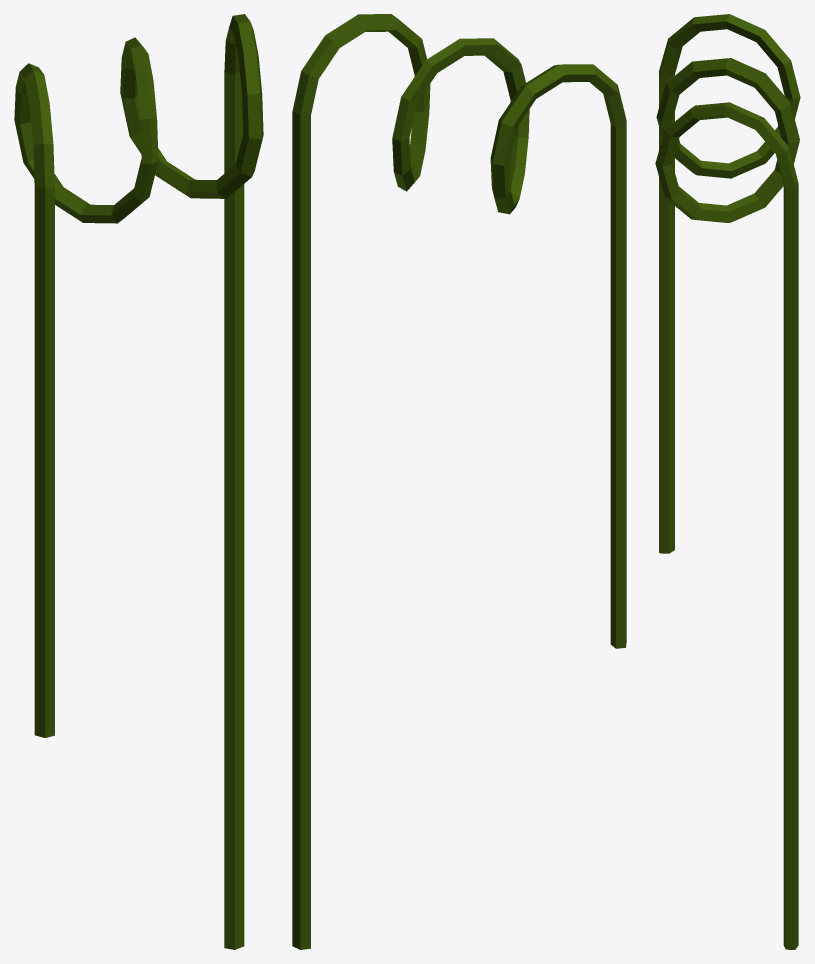
File: Prop_Vegetation_Jungle_Vine_Wraped_03.FBX
The picture shows the model from 3 angles, left to right: view 1: azimuth 30°, elevation 25°; view 2: azimuth 150°, elevation 25°; view 3: azimuth 270°, elevation 25°; orthographic projection. The views are drawn at different scales.
Visible parts, largest first — view 1: Prop_Vegetation_Jungle_Vine_Wraped_03; view 2: Prop_Vegetation_Jungle_Vine_Wraped_03; view 3: Prop_Vegetation_Jungle_Vine_Wraped_03.
Part boxes in pixels (x1,y1,x2,y2): Prop_Vegetation_Jungle_Vine_Wraped_03: [14, 14, 263, 949]; Prop_Vegetation_Jungle_Vine_Wraped_03: [292, 14, 626, 949]; Prop_Vegetation_Jungle_Vine_Wraped_03: [655, 14, 800, 949].
Size of the model in its own units: 1098 by 3623 by 572.
